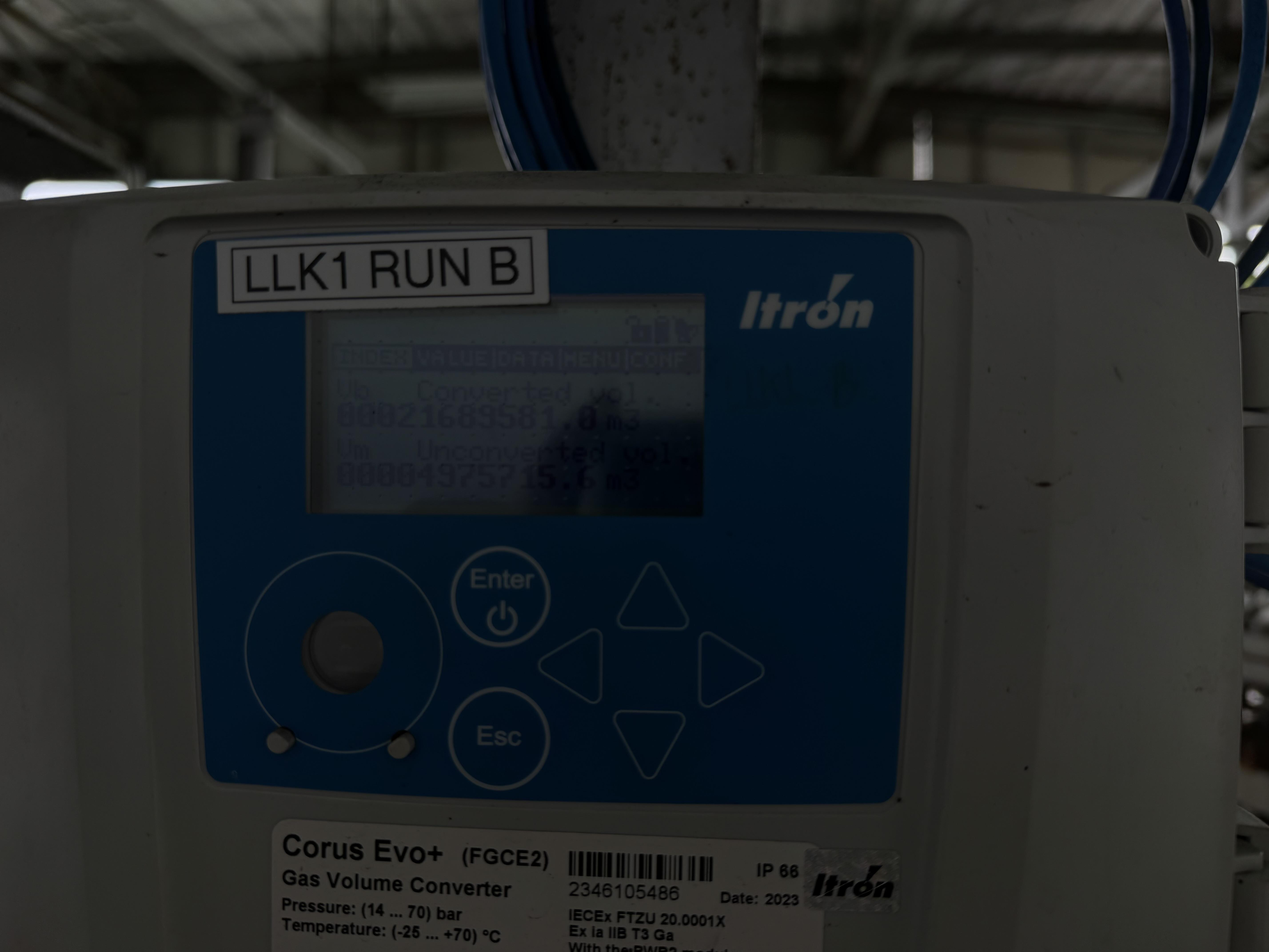digital_screen: (307, 294, 703, 517)
